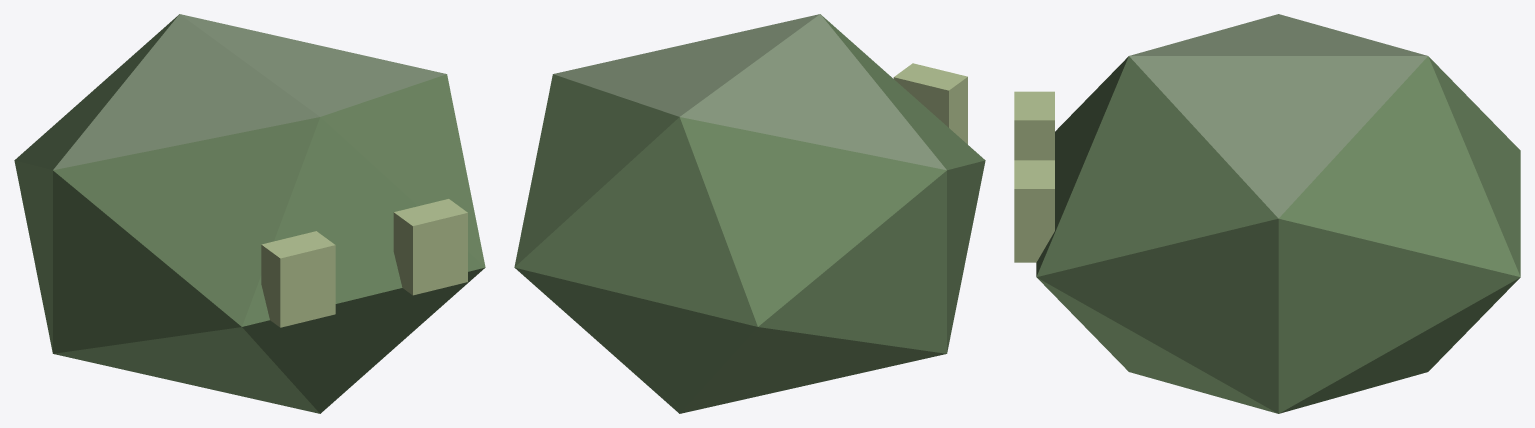
Rendered from ooze.glb.
The picture shows the model from 3 angles, left to right: view 1: azimuth 30°, elevation 25°; view 2: azimuth 150°, elevation 25°; view 3: azimuth 270°, elevation 25°; orthographic projection. The views are drawn at different scales.
Parts seen in each view (by area): view 1: Jelly, EyeR, EyeL; view 2: Jelly, EyeR; view 3: Jelly, EyeL, EyeR.
Part boxes in pixels (left/top/right/bottom): Jelly: left=14, top=14, right=485, bottom=413; EyeR: left=261, top=231, right=335, bottom=327; EyeL: left=393, top=199, right=467, bottom=295; Jelly: left=514, top=14, right=985, bottom=413; EyeR: left=893, top=63, right=967, bottom=144; Jelly: left=1036, top=14, right=1520, bottom=413; EyeL: left=1014, top=160, right=1054, bottom=262; EyeR: left=1014, top=91, right=1054, bottom=160.
Bounding box in the file's own units: 0.7145 × 0.5145 × 0.7473.
